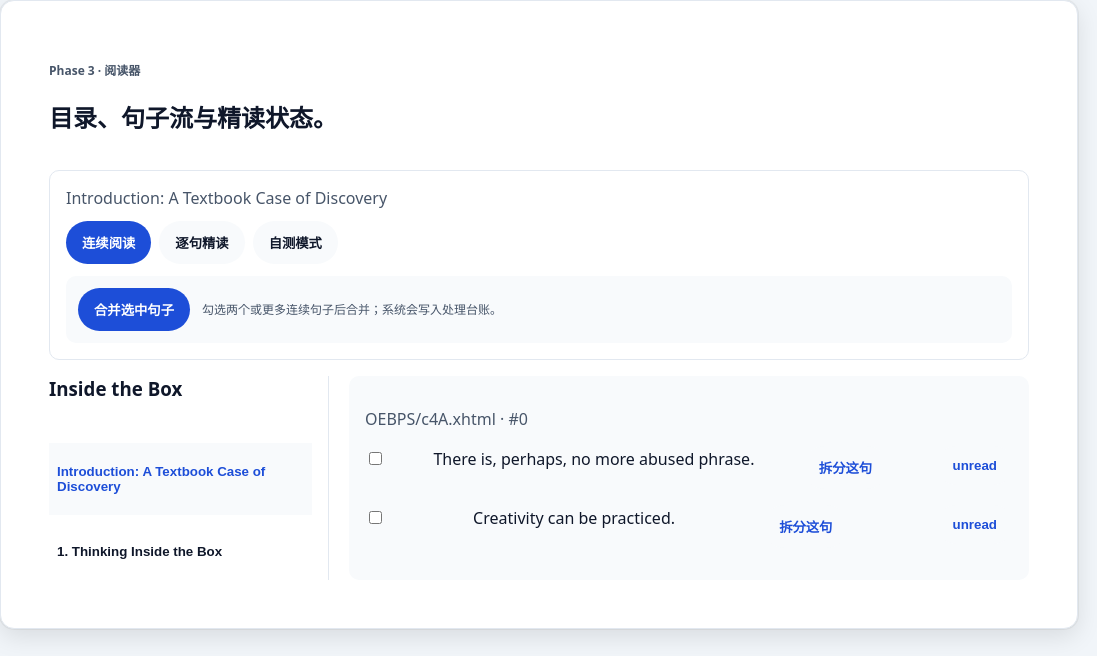
Scenario: ReaderPanel › marks a sentence as understood
Click the button with test id "sentence-status-1001" at (975, 465), box x1=936 y1=446 x2=1013 y2=485
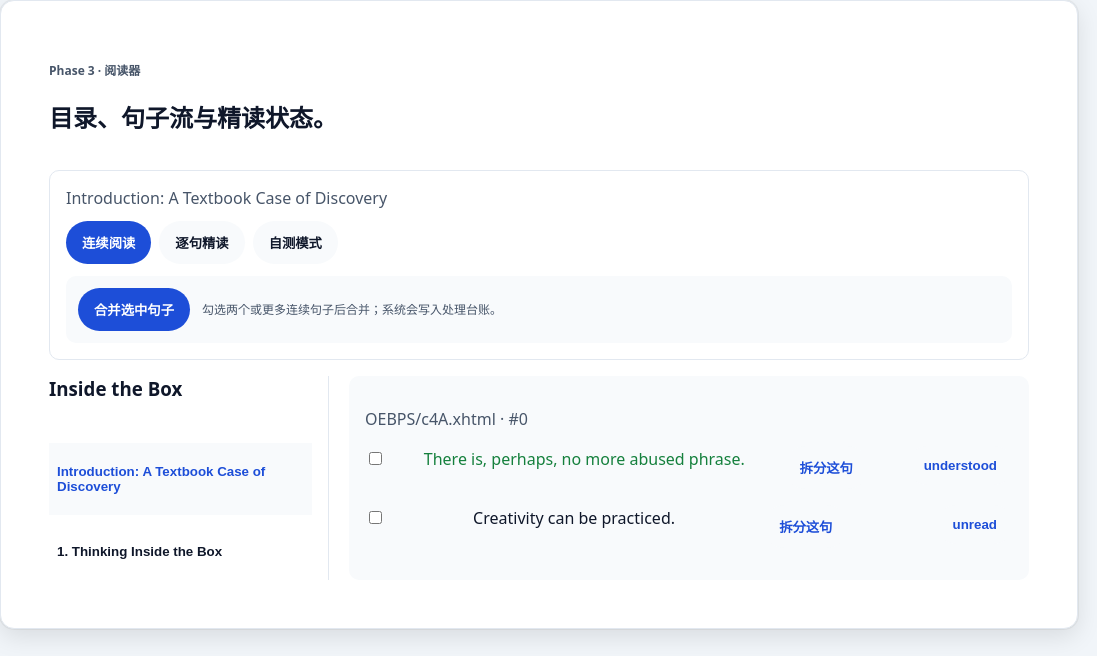
Expected: the text "understood" is shown, x1=908 y1=446 x2=1013 y2=485
